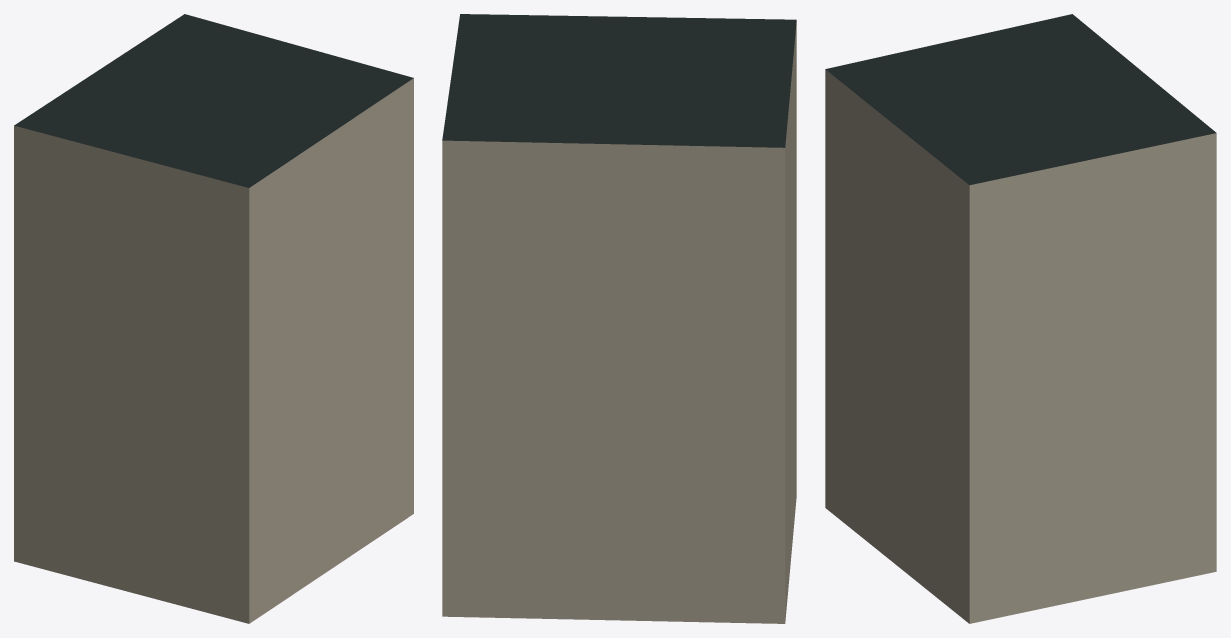
The picture shows the model from 3 angles, left to right: view 1: azimuth 30°, elevation 25°; view 2: azimuth 150°, elevation 25°; view 3: azimuth 270°, elevation 25°; orthographic projection. The views are drawn at different scales.
Parts seen in each view (by area): view 1: tuile; view 2: tuile; view 3: tuile.
Boxes of the visible parts, bbox=[...] form: tuile: bbox=[14, 14, 413, 623]; tuile: bbox=[442, 14, 796, 623]; tuile: bbox=[825, 14, 1216, 623].
Size of the model in its own units: 5.9 by 7.05 by 5.7.
